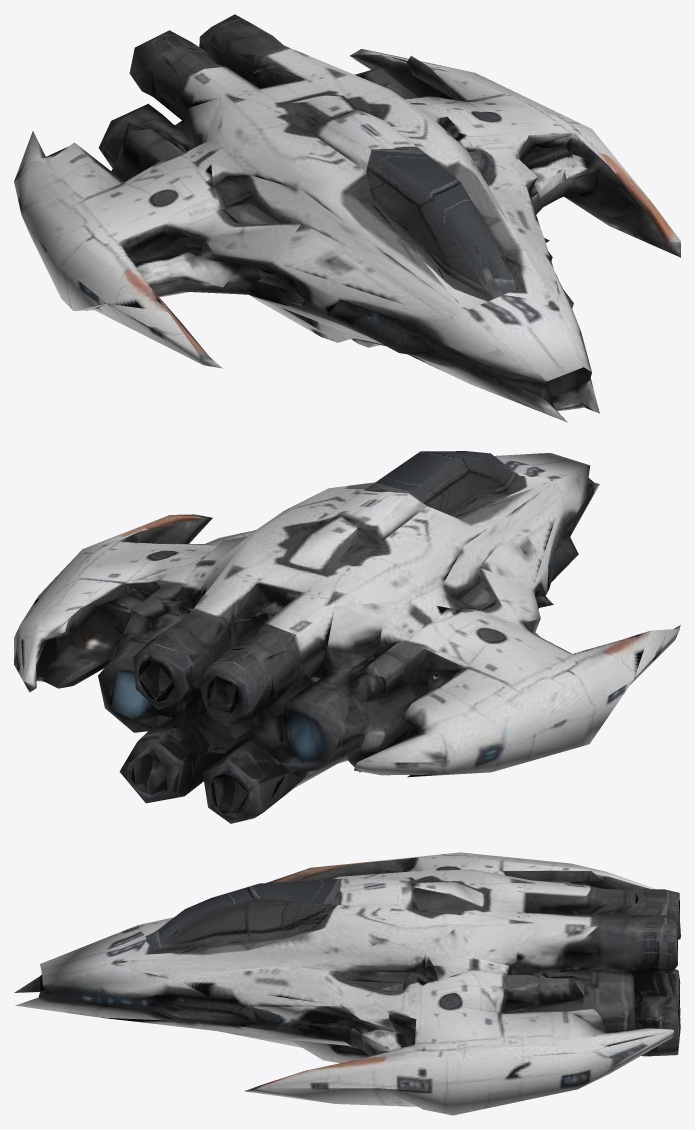
Rendered from human_heavy_lod1.glb.
The picture shows the model from 3 angles, top to bottom: view 1: azimuth 30°, elevation 25°; view 2: azimuth 150°, elevation 25°; view 3: azimuth 270°, elevation 25°; orthographic projection. The views are drawn at different scales.
Parts seen in each view (by area): view 1: EXPORT_heavy_lod1; view 2: EXPORT_heavy_lod1; view 3: EXPORT_heavy_lod1.
Part boxes in pixels (x1,y1,x2,y2): EXPORT_heavy_lod1: [14, 14, 680, 422]; EXPORT_heavy_lod1: [14, 451, 680, 823]; EXPORT_heavy_lod1: [14, 852, 680, 1115].
Size of the model in its own units: 0.7822 by 0.2887 by 1.
Materials: 5 (5 with a texture image).
